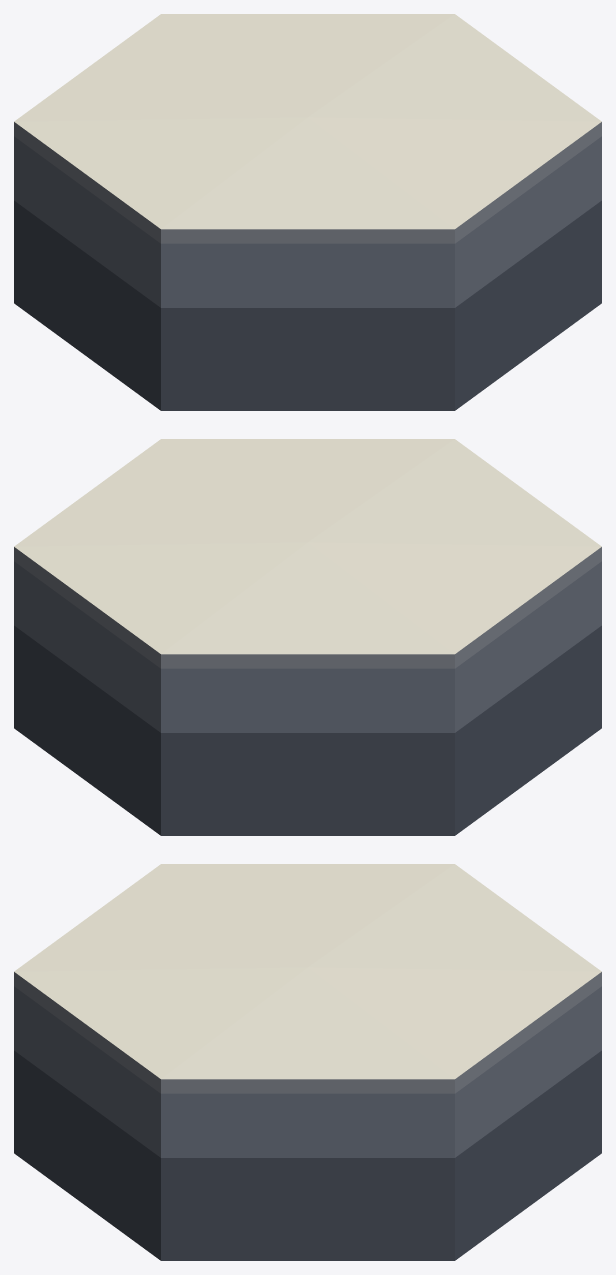
The model's file is AW-HEX-XMAS-SNOW-v0.1.glb.
The picture shows the model from 3 angles, top to bottom: view 1: azimuth 30°, elevation 25°; view 2: azimuth 150°, elevation 25°; view 3: azimuth 270°, elevation 25°; orthographic projection.
Visible parts, largest first — view 1: AW-HEX-XMAS-SNOW-v01; view 2: AW-HEX-XMAS-SNOW-v01; view 3: AW-HEX-XMAS-SNOW-v01.
Boxes of the visible parts, x1,y1,x2,y2 form: AW-HEX-XMAS-SNOW-v01: [14, 14, 601, 410]; AW-HEX-XMAS-SNOW-v01: [14, 439, 601, 835]; AW-HEX-XMAS-SNOW-v01: [14, 864, 601, 1260].
Size of the model in its own units: 3.81 by 1.54 by 4.4.
